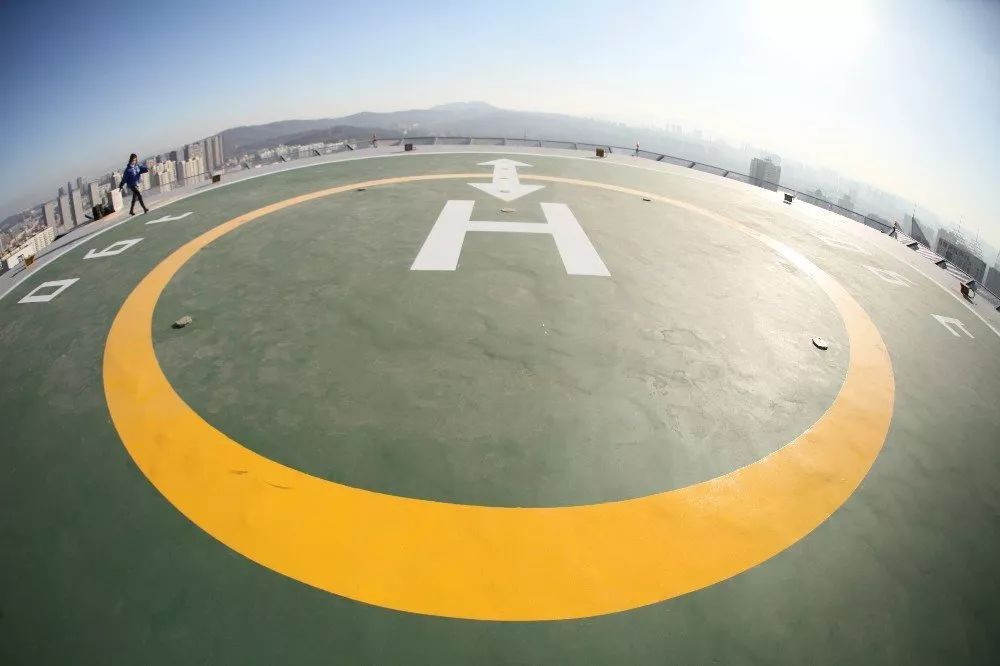Apron: (103, 172, 897, 627)
